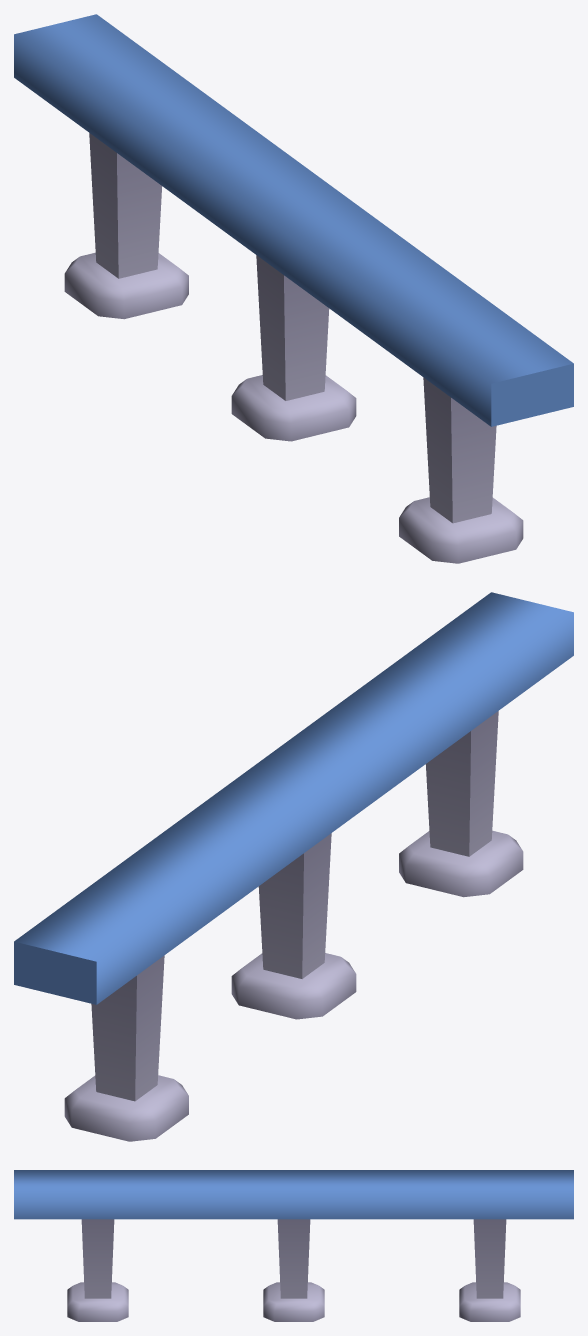
File: rail-low.fbx
The picture shows the model from 3 angles, top to bottom: view 1: azimuth 30°, elevation 25°; view 2: azimuth 150°, elevation 25°; view 3: azimuth 270°, elevation 25°; orthographic projection. The views are drawn at different scales.
Parts seen in each view (by area): view 1: rail-low; view 2: rail-low; view 3: rail-low.
Boxes of the visible parts, x1=… form: rail-low: x1=14, y1=14, x2=573, y2=563; rail-low: x1=14, y1=592, x2=573, y2=1141; rail-low: x1=14, y1=1170, x2=573, y2=1321.
Size of the model in its own units: 11 by 25 by 100.
1 material, 1 textured.
